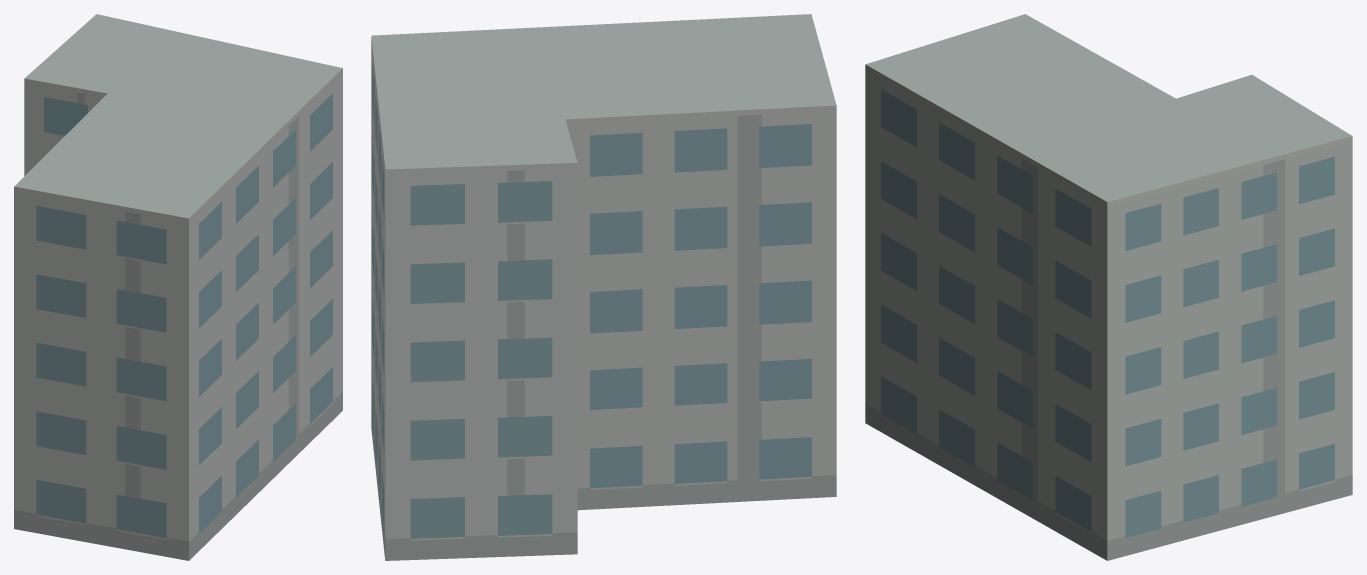
File: residential-ac98cfd0-2833-4986-95db-ec76d1cf1f4a.glb
3 views of the same model, side by side, from view 1: azimuth 30°, elevation 25°; view 2: azimuth 150°, elevation 25°; view 3: azimuth 270°, elevation 25° (orthographic). The views are drawn at different scales.
Visible parts, largest first — view 1: residential-ac98cfd0-2833-4986-95db-ec76d1cf1f4a.tmp; view 2: residential-ac98cfd0-2833-4986-95db-ec76d1cf1f4a.tmp; view 3: residential-ac98cfd0-2833-4986-95db-ec76d1cf1f4a.tmp.
Part boxes in pixels (x1,y1,x2,y2): residential-ac98cfd0-2833-4986-95db-ec76d1cf1f4a.tmp: [14, 14, 342, 560]; residential-ac98cfd0-2833-4986-95db-ec76d1cf1f4a.tmp: [371, 14, 836, 560]; residential-ac98cfd0-2833-4986-95db-ec76d1cf1f4a.tmp: [865, 14, 1352, 560].
Bounding box in the file's own units: 19.57 × 17.4 × 21.43.
